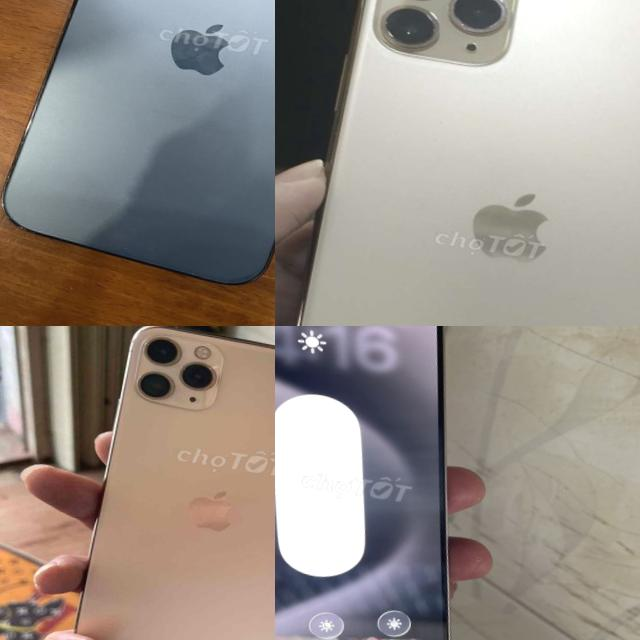gen_11: (275, 0, 640, 326), (51, 326, 275, 640)
gen_12_13: (0, 0, 275, 307)
gen_15: (275, 326, 534, 640)
